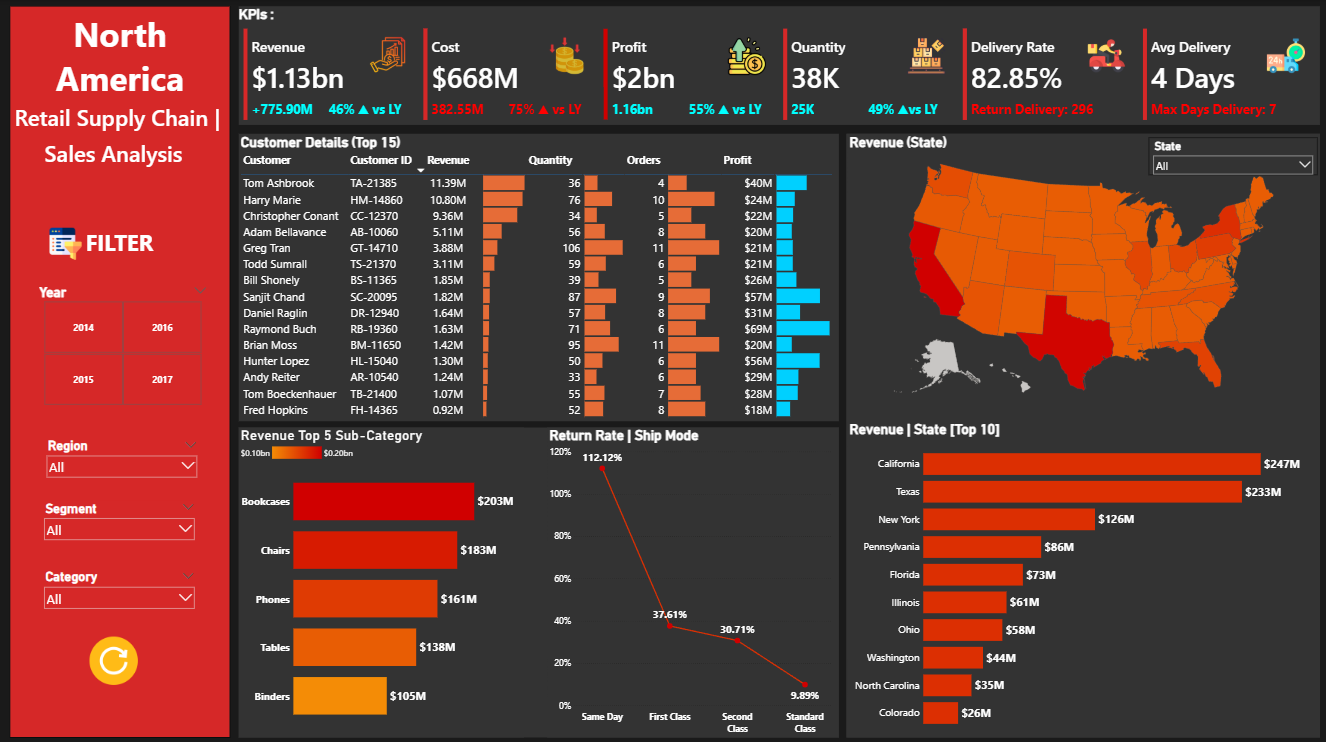

The page's visual inventory and layout, read from the dashboard file:
{"tool":"powerbi","page":{"name":"Sales analysis dashboard","canvas":[3200,1800],"ordinal":0},"visuals":[{"type":"cardVisual","title":"KPIs :","fields":{"Data":["Orders.Revenue","Orders.Cost","Orders.Profit","Orders.current Quantity","Orders.DeliveryRate","Orders.AverageDeliveryDaysText"]},"box":[576.1,15.1,2608.9,286.5],"z":0},{"type":"shape","title":"North america","box":[24.1,15.1,530.8,1764.4],"z":1000},{"type":"textbox","box":[30.2,241.3,515.8,114.6],"z":2000},{"type":"textbox","box":[102.5,328.8,383,81.4],"z":3000},{"type":"tableEx","title":"Customer Details (Top 15)","fields":{"Values":["Orders.Customer Name","Orders.Customer ID","Orders.table revenue","Orders.Revenue","Orders.Quantity","Orders.Table quantity","Orders.Total orders","Orders.Table Total orders","Orders.Profit","Orders.table profit"]},"box":[576.1,322.7,1447.7,693.7],"z":4000},{"type":"shape","box":[2041.9,322.7,1143.1,1456.8],"z":5000},{"type":"shapeMap","title":"Revenue (State)","fields":{"Category":["Orders.State"],"Value":["Orders.Sales"]},"box":[2044.9,322.7,1140.1,660.5],"z":6000},{"type":"barChart","title":"Revenue | State [Top 10]","fields":{"Category":["Orders.State"],"Y":["Orders.Revenue"]},"box":[2044.9,1016.4,1140.1,763.1],"z":7000},{"type":"shape","box":[576.1,1031.5,1447.7,748],"z":8000},{"type":"lineChart","title":"Return Rate | Ship Mode","fields":{"Category":["Orders.Ship Mode"],"Y":["Orders.ReturnRateByShipMode"]},"box":[1321.1,1031.5,702.8,748],"z":9000},{"type":"barChart","title":"Revenue Top 5 Sub-Category","fields":{"Y":["Orders.Sales"],"Category":["Orders.Sub-Category"]},"box":[576.1,1031.5,687.7,748],"z":10000},{"type":"slicer","fields":{"Values":["Orders.State"]},"box":[2771.8,331.8,407.2,90.5],"z":11000},{"type":"slicer","fields":{"Values":["Orders.Order Date.Variation.Date Hierarchy.Year"]},"box":[81.4,681.6,428.3,301.6],"z":12000},{"type":"textbox","box":[202.1,542.9,193,87.5],"z":13000},{"type":"image","box":[114.6,539.9,87.5,96.5],"z":14000},{"type":"slicer","fields":{"Values":["Orders.Region"]},"box":[102.5,1052.6,383,126.7],"z":15000},{"type":"slicer","fields":{"Values":["Orders.Segment"]},"box":[96.5,1203.4,383,126.7],"z":16000},{"type":"slicer","fields":{"Values":["Orders.Category"]},"box":[96.5,1369.3,383,126.7],"z":17000},{"type":"image","box":[211.1,1523.1,126.7,141.8],"z":18000}]}

Visuals, with their boxes in screenshot pixels (x1, y1, x2, y2), scaled from the page's 3200x1800 canvas onto the 1326x742 screenshot:
"KPIs :" cardVisual: (239, 6, 1320, 124)
"North america" shape: (10, 6, 230, 734)
textbox: (13, 99, 226, 147)
textbox: (42, 136, 201, 169)
"Customer Details (Top 15)" tableEx: (239, 133, 839, 419)
shape: (846, 133, 1320, 734)
"Revenue (State)" shapeMap: (847, 133, 1320, 405)
"Revenue | State [Top 10]" barChart: (847, 419, 1320, 734)
shape: (239, 425, 839, 734)
"Return Rate | Ship Mode" lineChart: (547, 425, 839, 734)
"Revenue Top 5 Sub-Category" barChart: (239, 425, 524, 734)
slicer - Orders.State: (1149, 137, 1317, 174)
slicer - Orders.Order Date.Variation.Date Hierarchy.Year: (34, 281, 211, 405)
textbox: (84, 224, 164, 260)
image: (47, 223, 84, 262)
slicer - Orders.Region: (42, 434, 201, 486)
slicer - Orders.Segment: (40, 496, 199, 548)
slicer - Orders.Category: (40, 564, 199, 617)
image: (87, 628, 140, 686)
